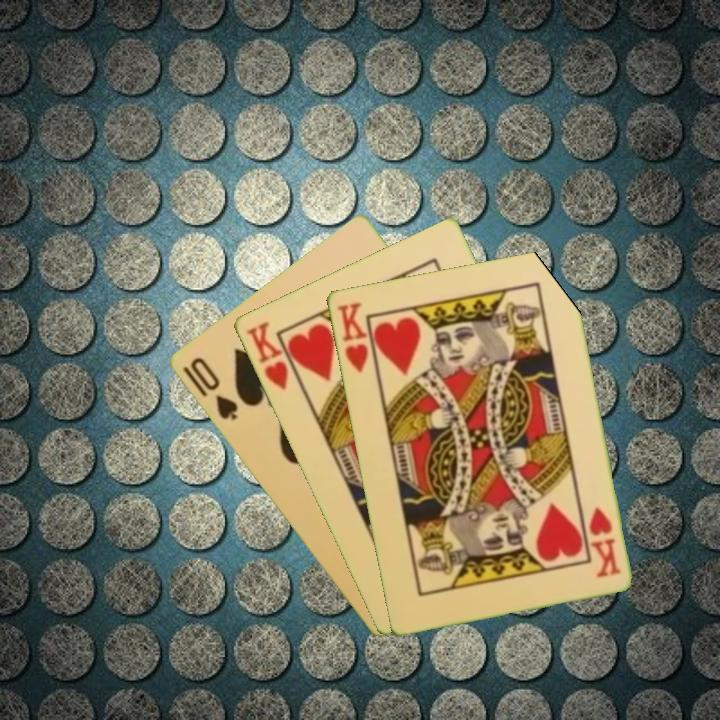10s: (185, 353, 240, 423)
Kh: (242, 317, 304, 394), (333, 298, 379, 378), (585, 503, 623, 580)
